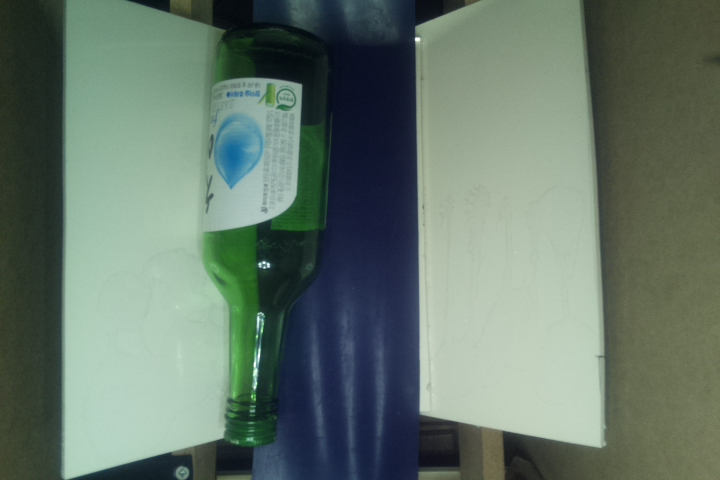soju: (204, 26, 328, 448)
